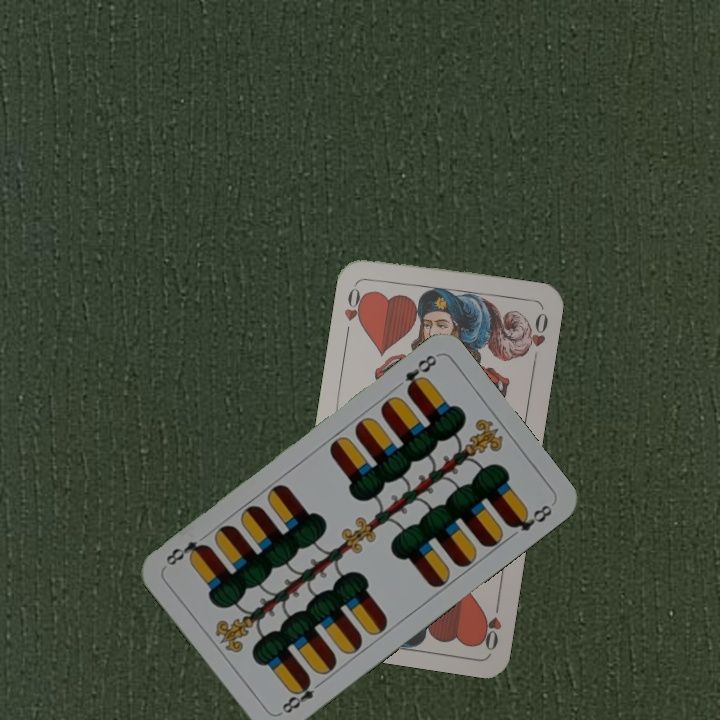E8: (275, 674, 326, 718), (401, 350, 440, 396)
HO: (340, 279, 369, 338), (476, 594, 505, 653)
